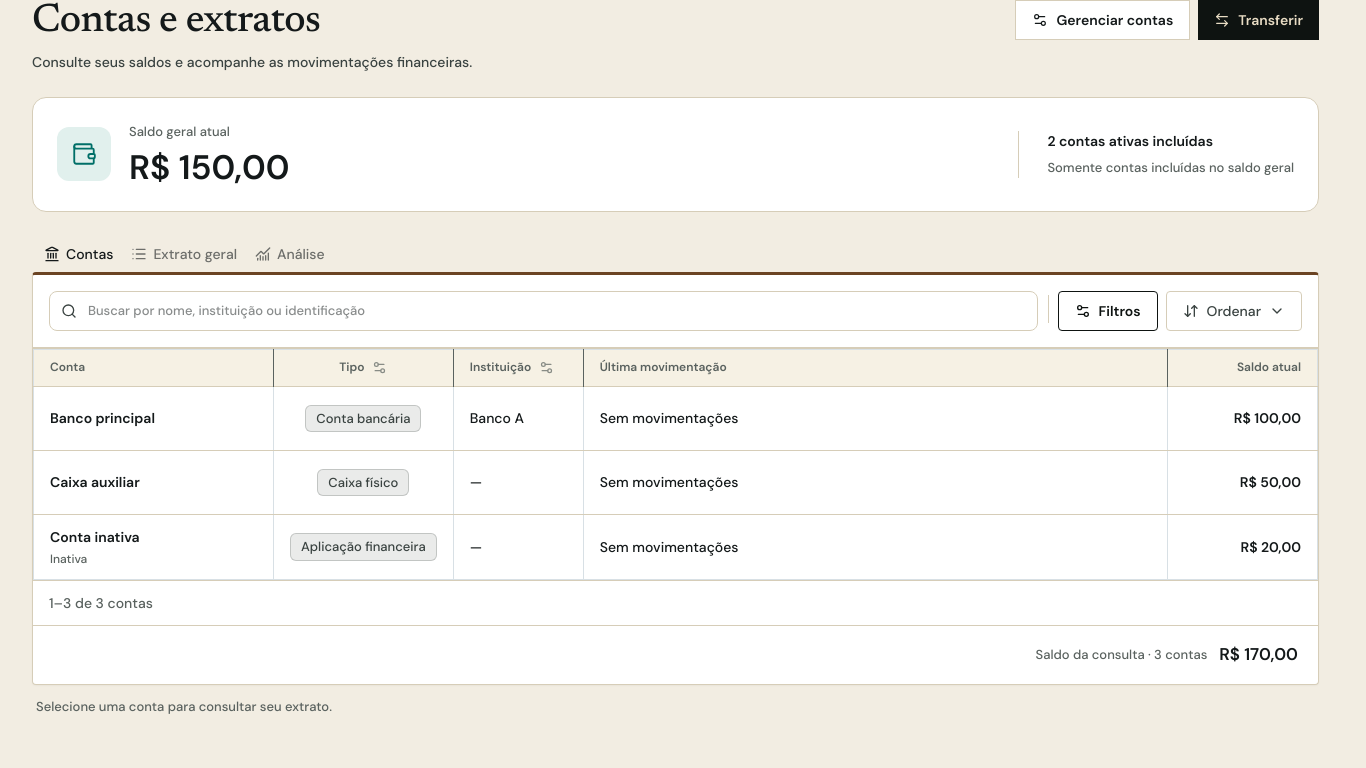
Test: ContasFinanceiras — cadastros ativos › não oferece conta inativa na transferência
Expected: the link "Banco principal" is shown, [50, 408, 155, 428]
Expected: the link with aria-label "Ver conta Conta inativa" is shown, [50, 527, 140, 547]
Click the button "Transferir".
click(1259, 20)  # box [1198, 0, 1319, 40]
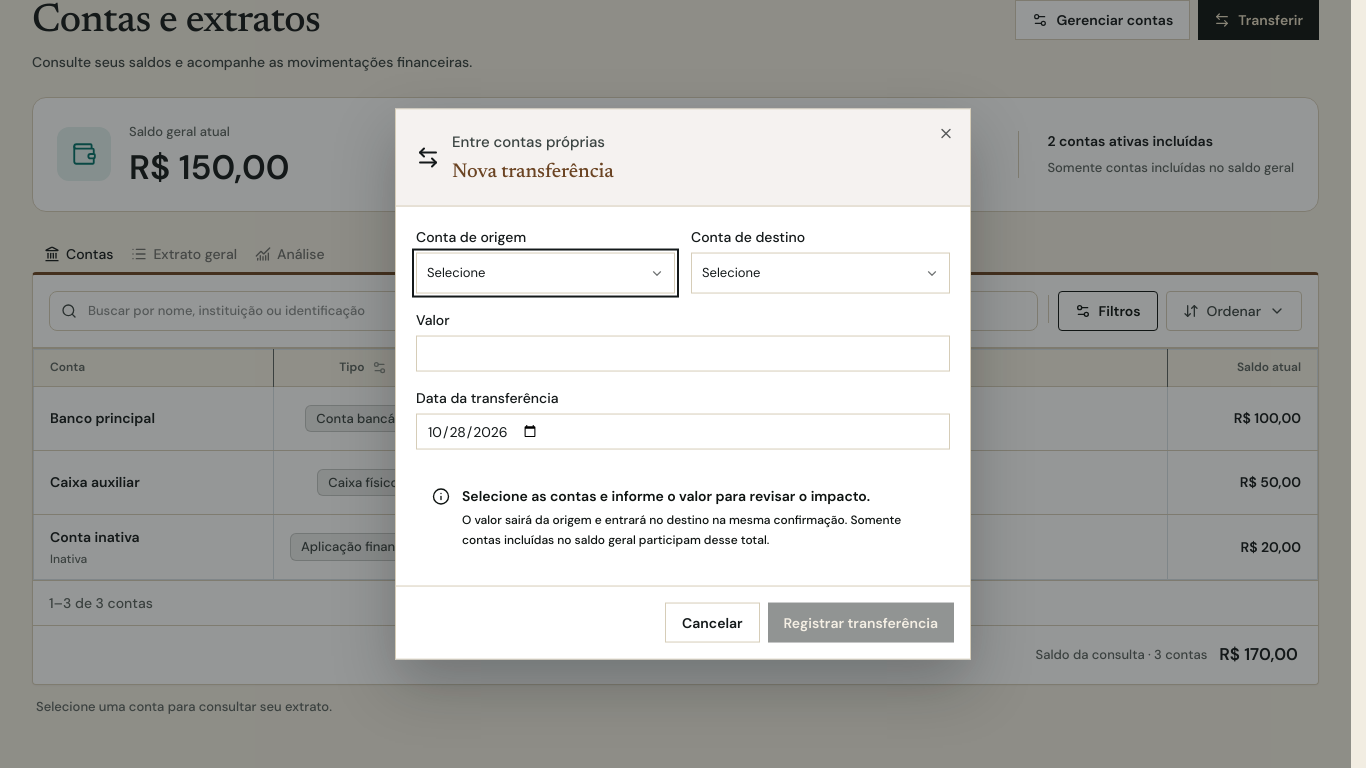
Expected: the heading "Nova transferência" is shown, [452, 158, 614, 186]
Click the dropdown named "Conta de origem".
click(546, 273)  # box [416, 253, 675, 294]
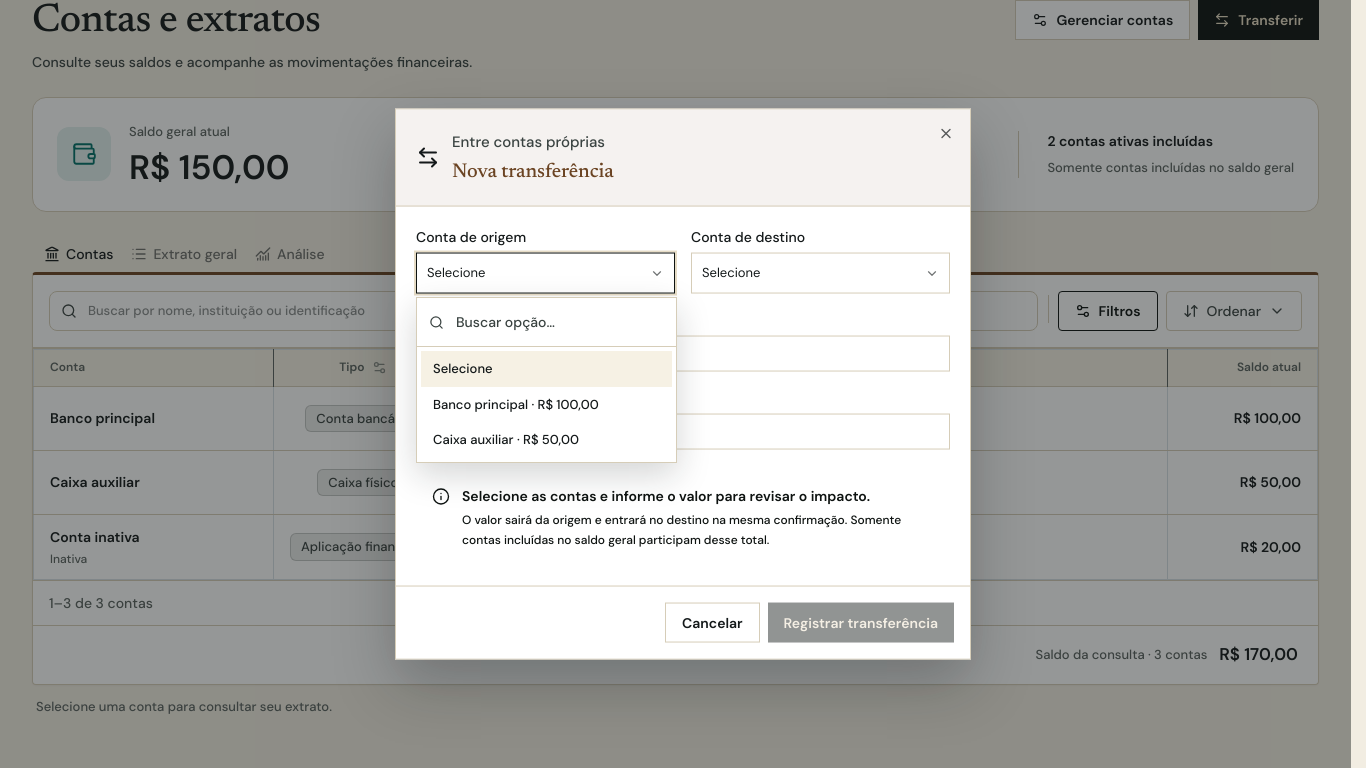
Expected: the option "Banco principal · R$ 100,00" is shown, [433, 396, 599, 412]
Expected: the option "Caixa auxiliar · R$ 50,00" is shown, [433, 431, 579, 448]
